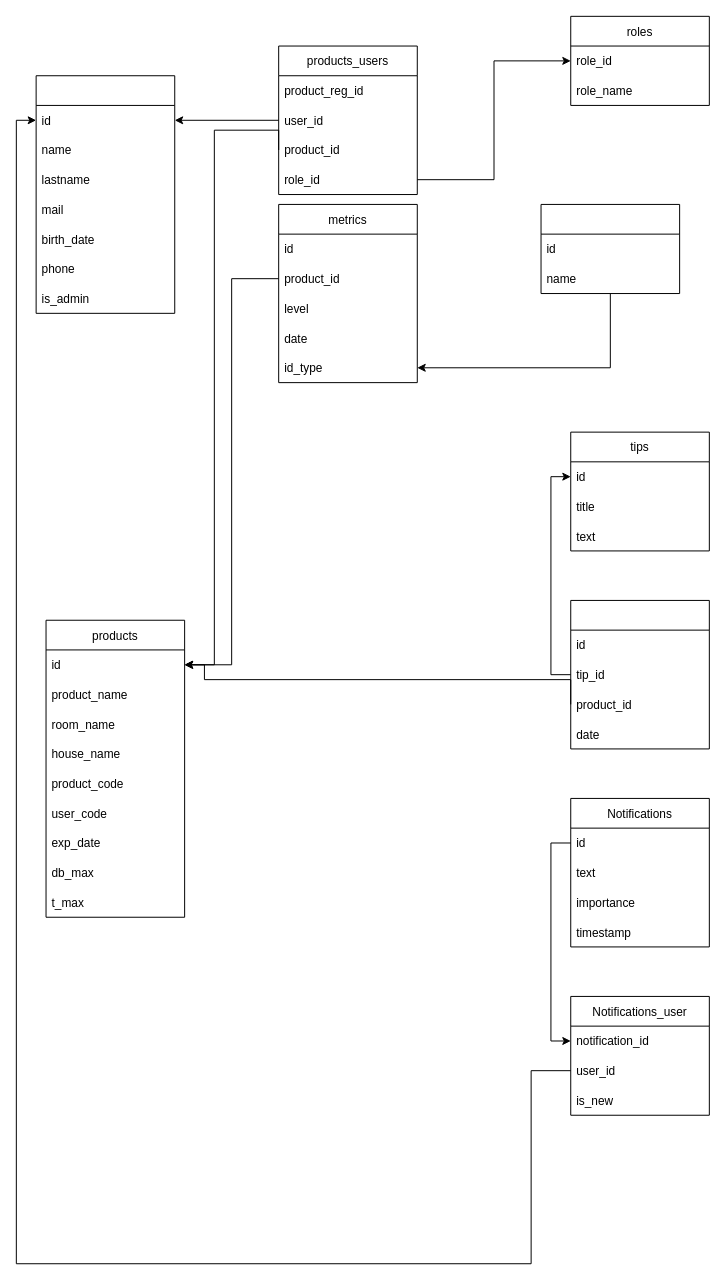
Image size: 726x1280. Some labels were removed from this diagram. The shapes that lost their labels are listed below. From the top down, each one's box as (x1, y1, x2, y2) in pixels, then its label:
(35, 75, 175, 313): Users
(540, 203, 680, 294): types
(570, 599, 709, 749): tips_shown
